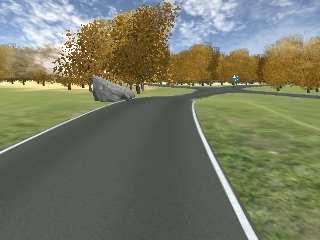left: (232, 76, 238, 81)
